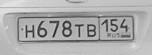license-plateSW: (18, 17, 133, 39)
